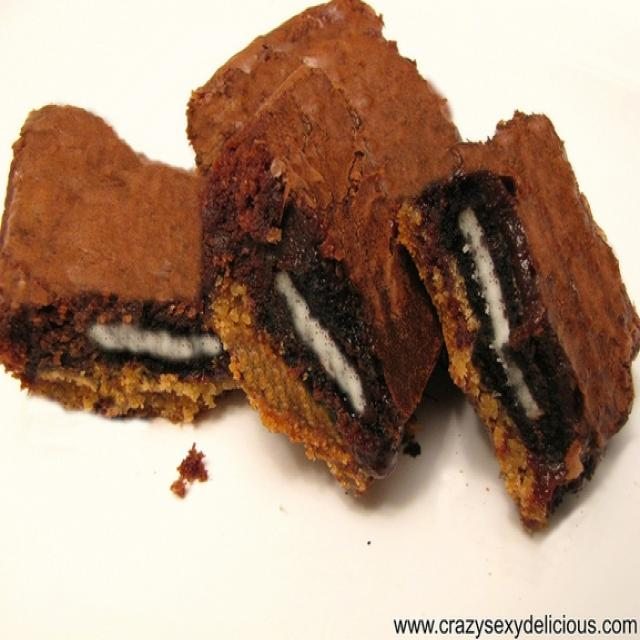蛋糕甜品: (8, 27, 609, 588)
